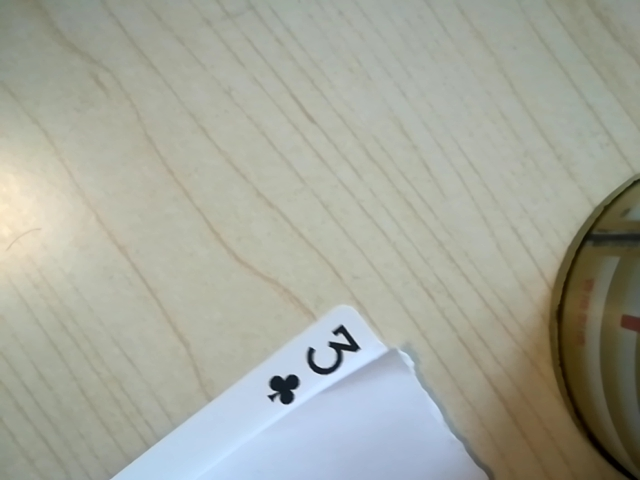mh 3: (255, 318, 378, 408)
